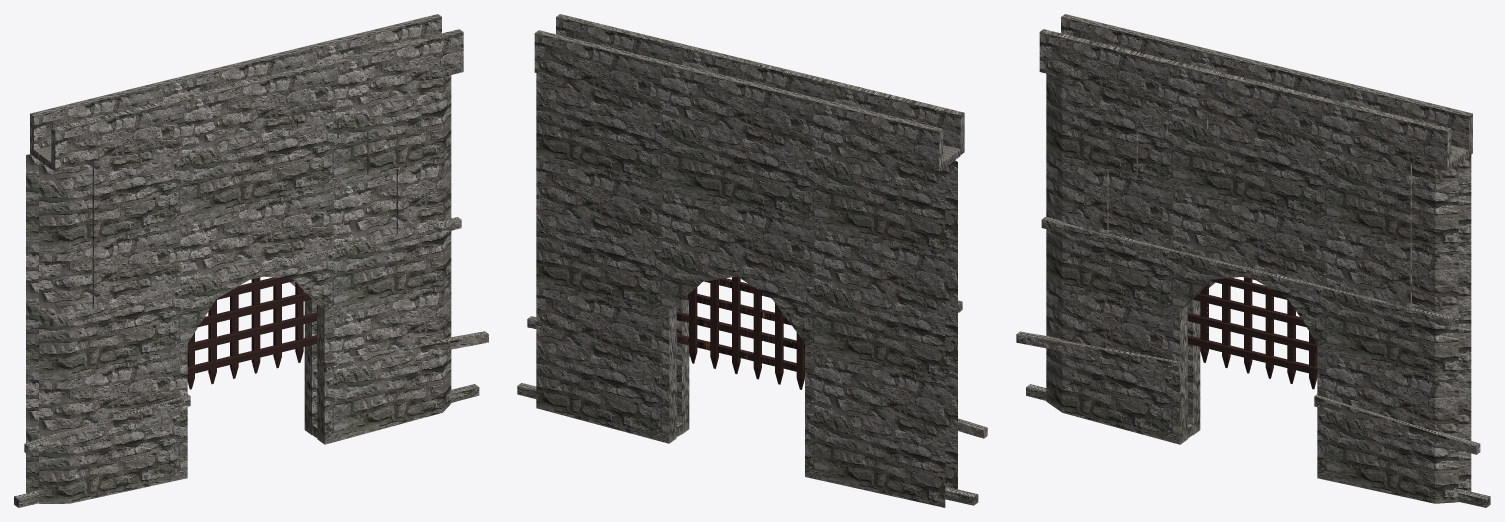
File: gate.FBX
3 renders of one model, left to right at view 1: azimuth 30°, elevation 25°; view 2: azimuth 150°, elevation 25°; view 3: azimuth 330°, elevation 25°, orthographic.
Visible parts, largest first — view 1: Entrance, Gate; view 2: Entrance, Gate; view 3: Entrance, Gate.
Boxes of the visible parts, x1,y1,x2,y2 form: Entrance: (14,14,488,507); Gate: (187,277,317,389); Entrance: (517,14,987,507); Gate: (676,276,804,389); Entrance: (1016,14,1490,507); Gate: (1187,277,1317,389).
Size of the model in its own units: 5088 by 4042 by 487.
